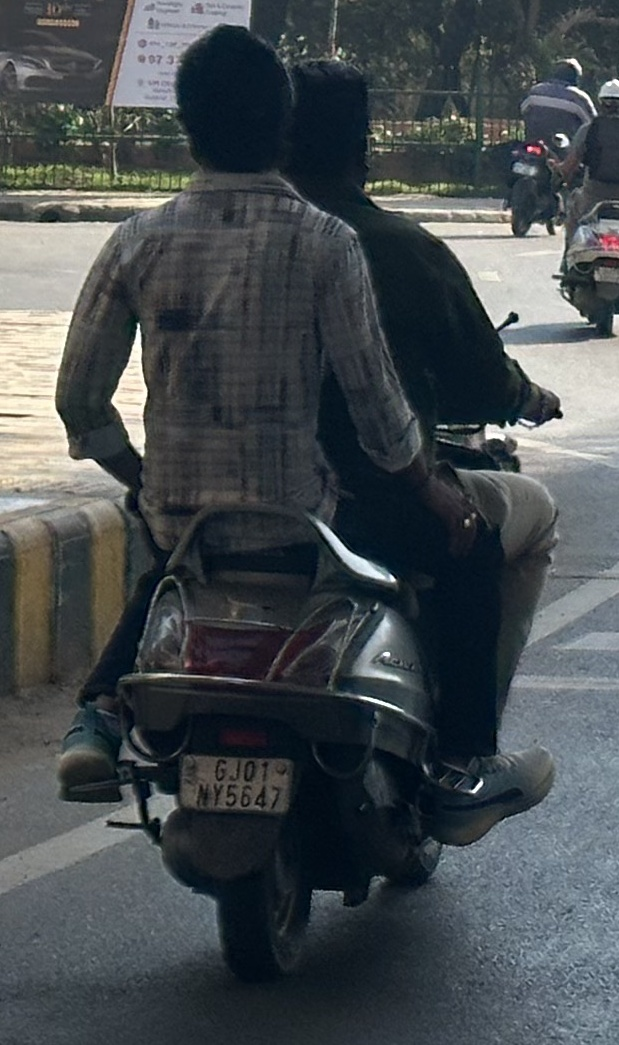BikeWithRider: (39, 17, 574, 998), (543, 67, 619, 344), (494, 50, 603, 242)
Helmet: (544, 52, 589, 89)
NoHelmet: (161, 16, 303, 186), (266, 49, 390, 210)
